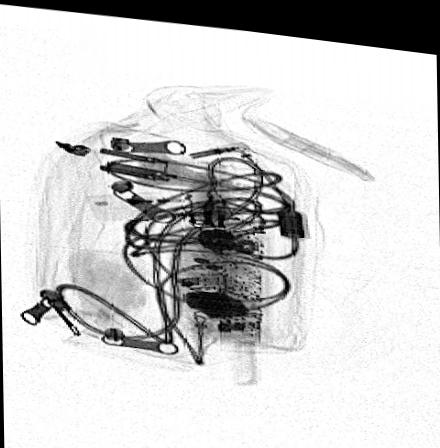Lighter: (86, 183, 234, 222)
